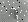person: (12, 7, 18, 19)
